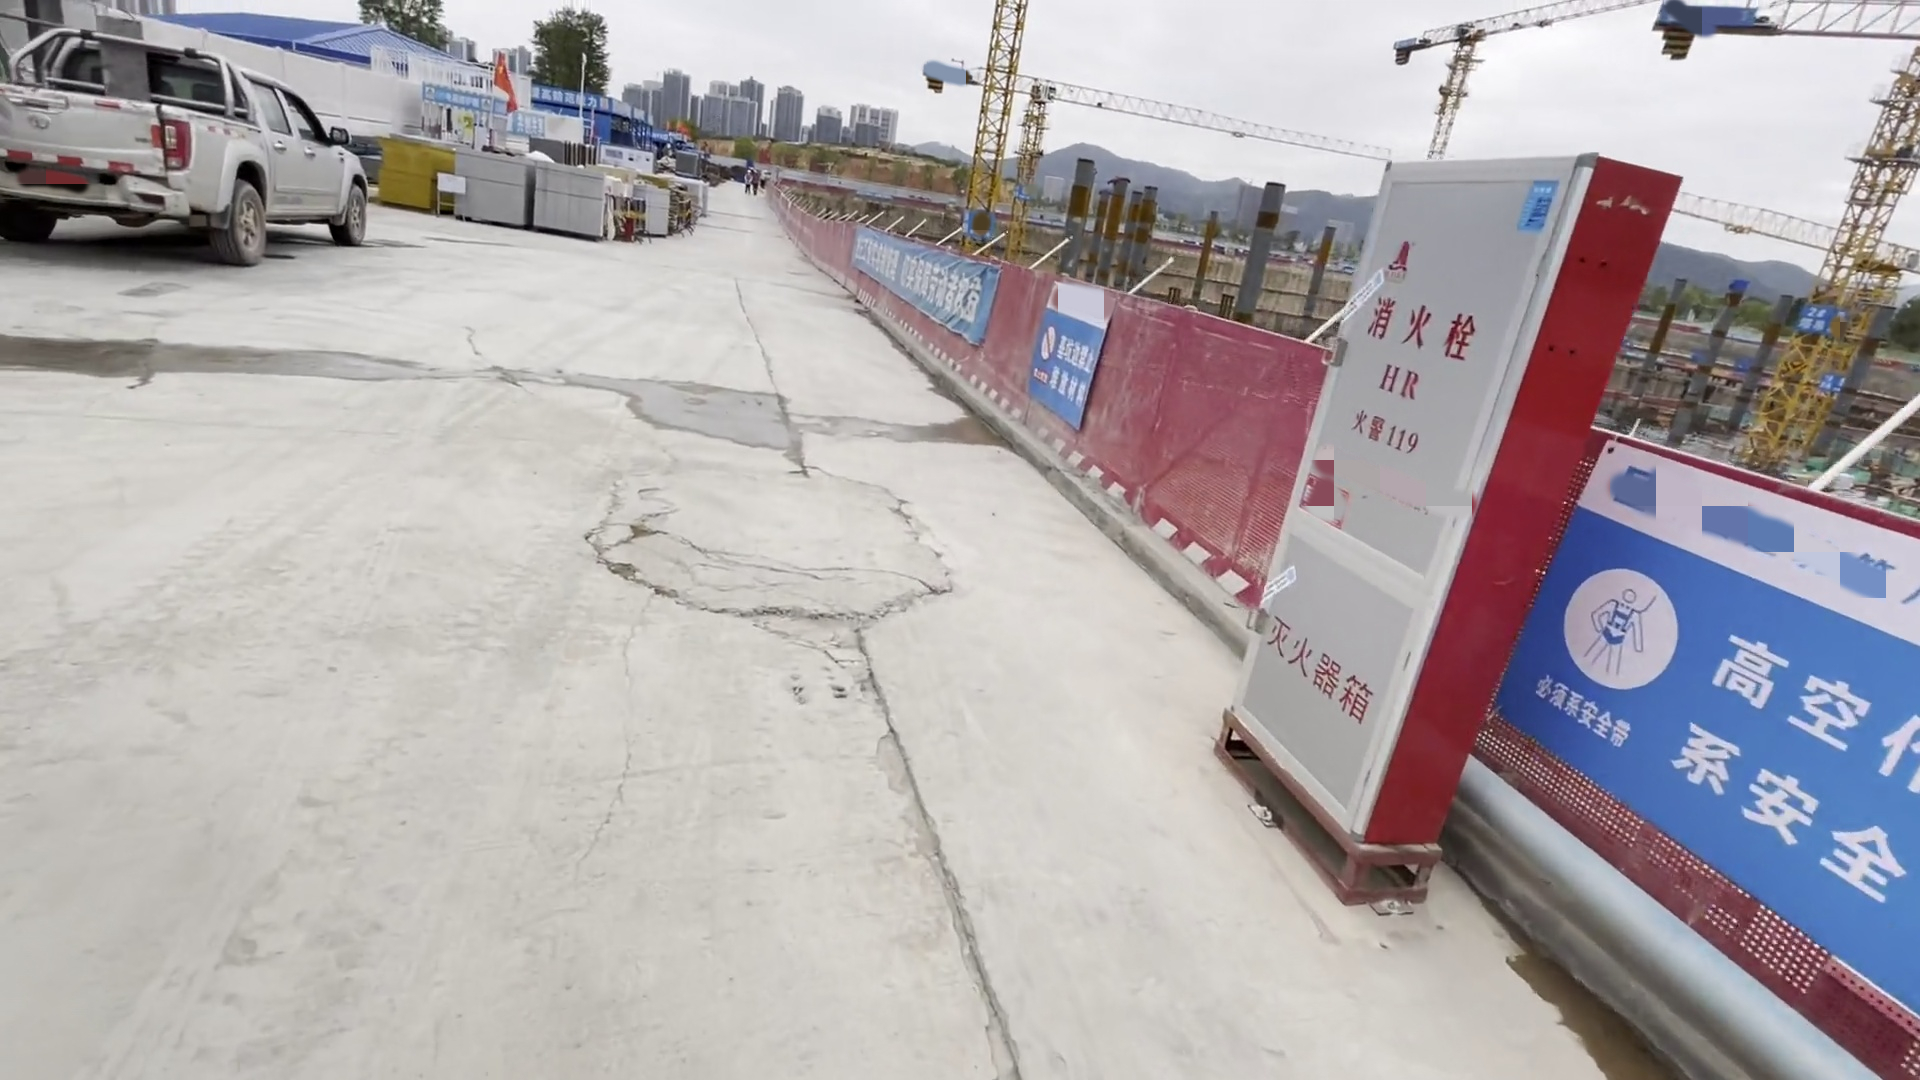brick: (448, 146, 615, 245), (632, 177, 673, 239)
fence: (750, 195, 1316, 645), (1514, 454, 1920, 1058)
slogan: (1530, 543, 1920, 907), (833, 223, 996, 332), (1035, 326, 1106, 404)
